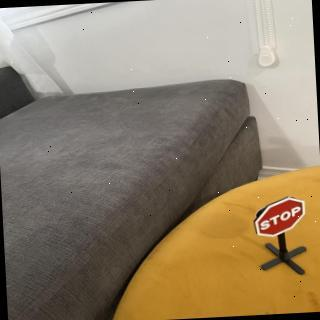sign_stop: (254, 195, 309, 240)
